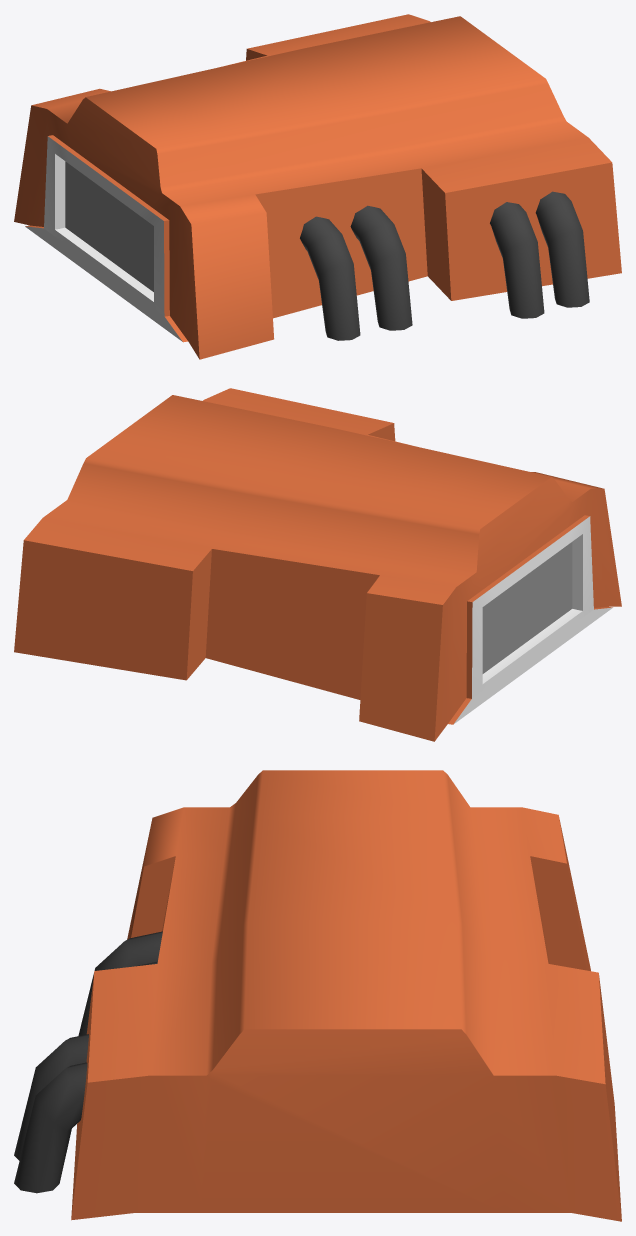
File: Machine_10.fbx
3 renders of one model, top to bottom at view 1: azimuth 30°, elevation 25°; view 2: azimuth 150°, elevation 25°; view 3: azimuth 270°, elevation 25°, orthographic. The views are drawn at different scales.
Visible parts, largest first — view 1: Machine_10; view 2: Machine_10; view 3: Machine_10.
Part boxes in pixels (<box>): Machine_10: <box>14,14,621,359</box>; Machine_10: <box>14,388,621,741</box>; Machine_10: <box>14,770,621,1221</box>.
Bounding box in the file's own units: 968 × 377 × 983.
